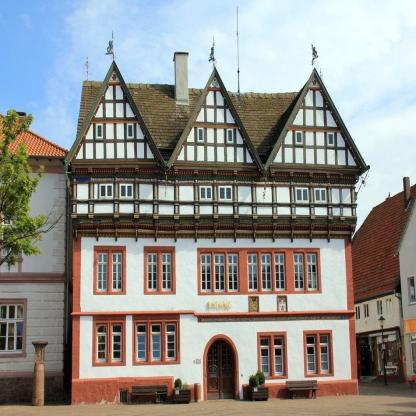Building Outline: (62, 51, 370, 405)
Deco: (208, 301, 232, 310)
Dont: (286, 380, 321, 399), (248, 371, 269, 402), (132, 386, 167, 403), (173, 377, 191, 404), (194, 382, 201, 402)
Door: (206, 337, 237, 400)
Facade: (71, 162, 358, 405)
Floor: (73, 228, 354, 303), (72, 165, 357, 227)
Floor Slab: (72, 222, 356, 234), (68, 160, 357, 170), (73, 304, 354, 310)
Ground Floor: (71, 310, 357, 405)
Roof: (72, 70, 315, 163)
Top Floor: (68, 60, 161, 158), (268, 70, 359, 166), (170, 68, 259, 162)
Window: (96, 250, 109, 292), (110, 250, 123, 292), (273, 335, 286, 376), (200, 252, 213, 292), (213, 252, 226, 292), (227, 252, 240, 292), (150, 322, 163, 362), (293, 252, 306, 291), (147, 250, 159, 292), (161, 250, 173, 292), (260, 336, 272, 377), (136, 322, 148, 363), (306, 334, 318, 374), (319, 334, 331, 374), (247, 252, 259, 292), (261, 252, 273, 292), (96, 323, 108, 363), (111, 323, 123, 362), (274, 252, 286, 290), (307, 252, 319, 290), (166, 321, 177, 361), (295, 187, 309, 202), (313, 188, 327, 203), (219, 185, 232, 200), (119, 184, 133, 197), (99, 184, 113, 197), (200, 185, 212, 199), (127, 123, 134, 139), (96, 124, 103, 140), (328, 132, 334, 146), (227, 129, 233, 143), (296, 130, 302, 144), (198, 127, 203, 142)
